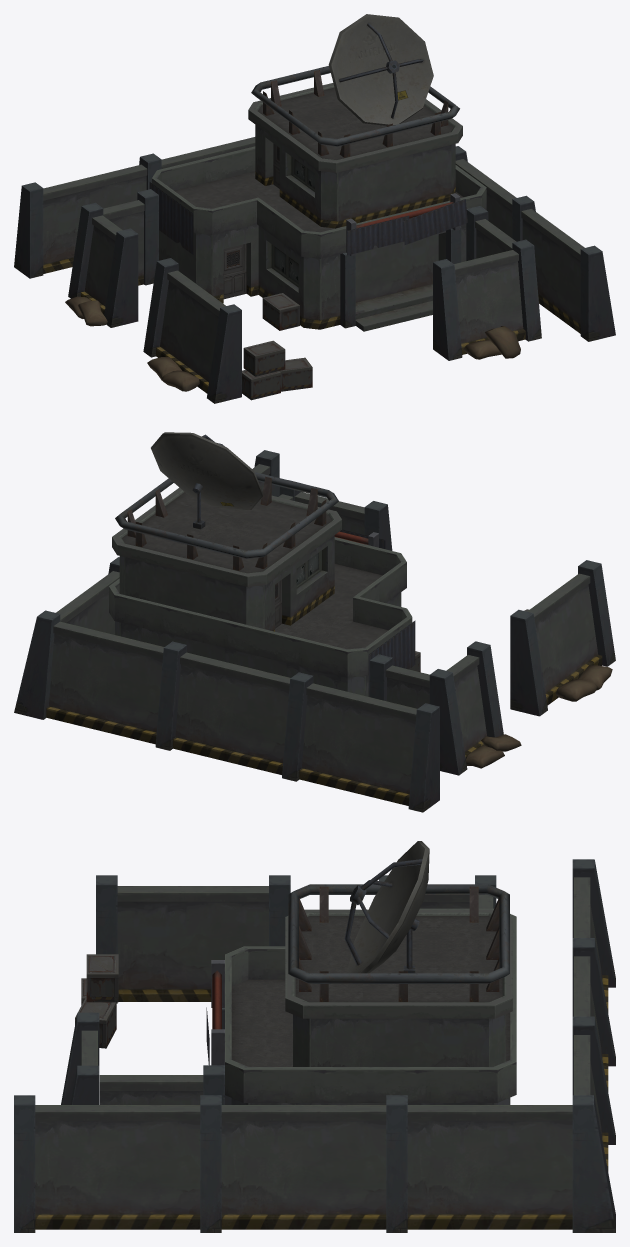
The model's file is WMClanStronghold1.FBX.
3 renders of one model, top to bottom at view 1: azimuth 30°, elevation 25°; view 2: azimuth 150°, elevation 25°; view 3: azimuth 270°, elevation 25°, orthographic. The views are drawn at different scales.
Visible parts, largest first — view 1: WMClanStronghold1; view 2: WMClanStronghold1; view 3: WMClanStronghold1.
Boxes of the visible parts, bbox=[...] form: WMClanStronghold1: bbox=[14, 14, 615, 403]; WMClanStronghold1: bbox=[14, 432, 615, 812]; WMClanStronghold1: bbox=[14, 841, 615, 1232].
Size of the model in its own units: 1.51 by 0.8672 by 1.47.
Materials: 1 (1 with a texture image).
